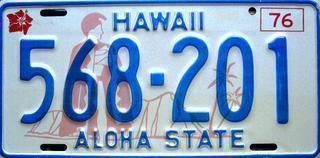placa de veiculo: (4, 4, 311, 153)
